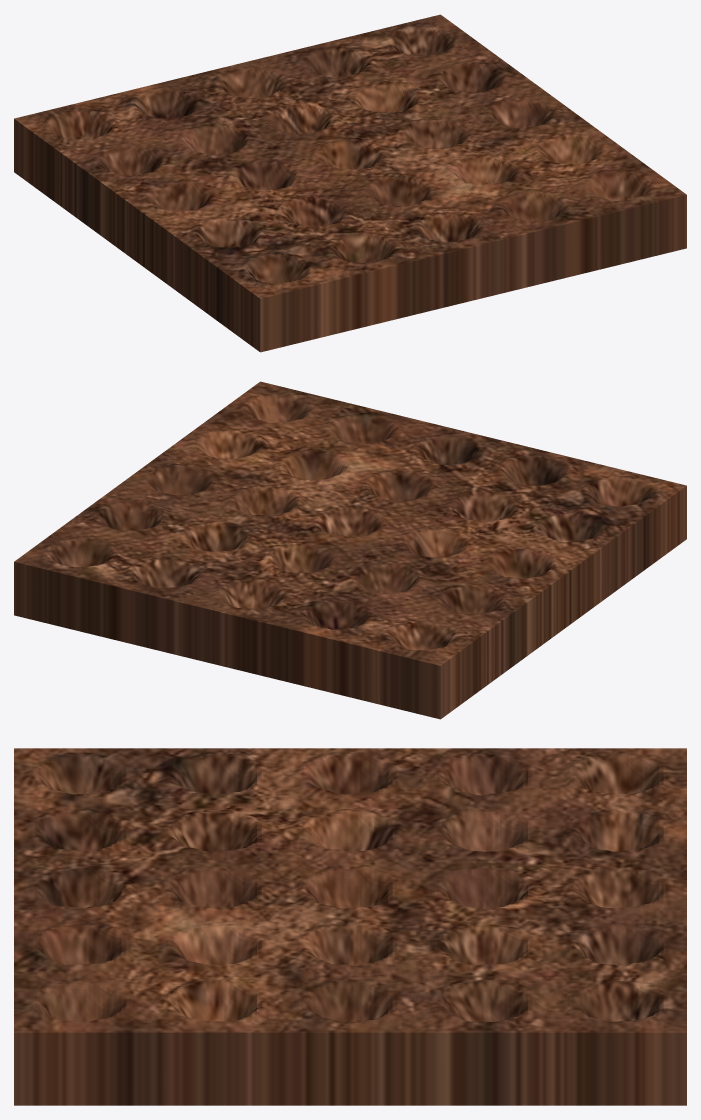
Rendered from s02-planting-bed-5x5-empty.glb.
3 views of the same model, one above another, from view 1: azimuth 30°, elevation 25°; view 2: azimuth 150°, elevation 25°; view 3: azimuth 270°, elevation 25° (orthographic). The views are drawn at different scales.
Parts seen in each view (by area): view 1: world; view 2: world; view 3: world.
Part boxes in pixels (bbox=[...]): world: bbox=[14, 14, 686, 352]; world: bbox=[14, 381, 686, 719]; world: bbox=[14, 748, 686, 1105].
Bounding box in the file's own units: 1 × 0.1251 × 1.
Materials: 1 (1 with a texture image).
